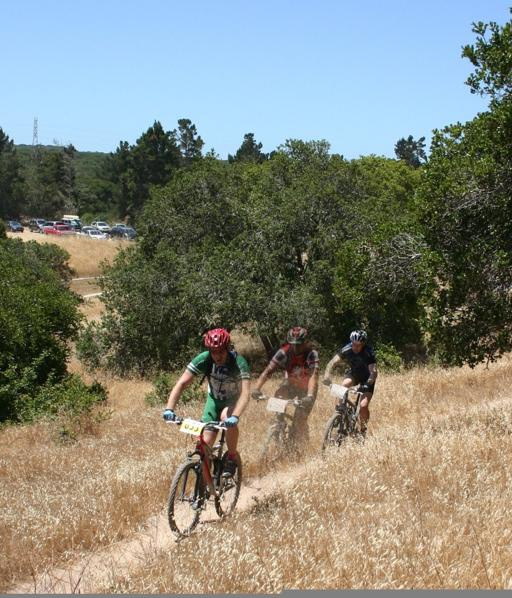non-vehicle: (166, 410, 244, 538), (248, 389, 307, 482), (319, 375, 365, 459)
